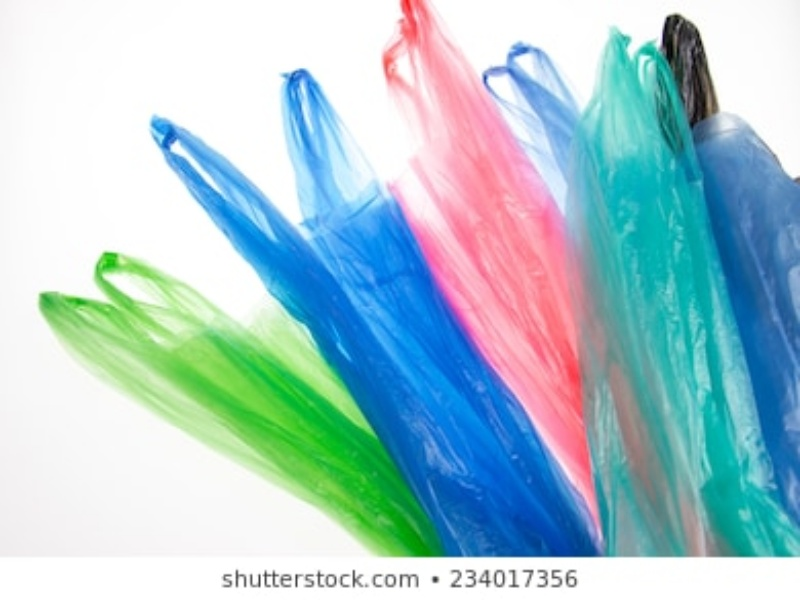plastic-bag: (150, 68, 600, 556), (374, 1, 706, 558), (36, 251, 445, 554), (586, 29, 790, 558), (682, 115, 800, 529), (475, 38, 601, 201), (647, 11, 724, 153)
